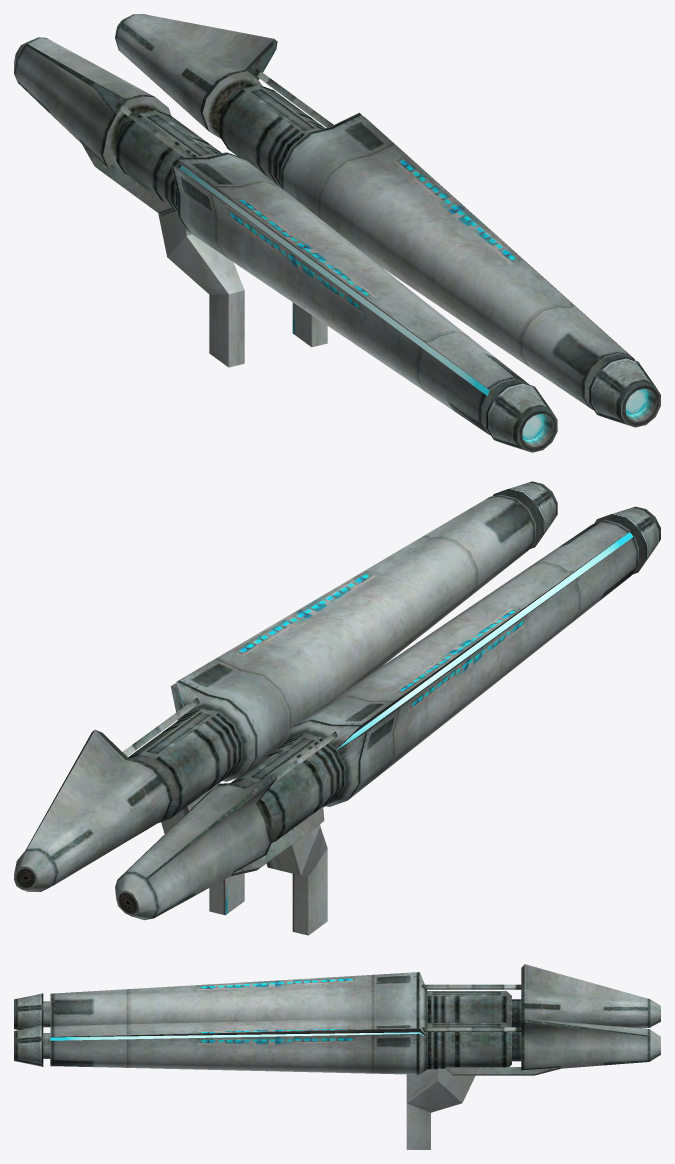
The model's file is ywing_weapon2_s02_l0.fbx.
The picture shows the model from 3 angles, top to bottom: view 1: azimuth 30°, elevation 25°; view 2: azimuth 150°, elevation 25°; view 3: azimuth 270°, elevation 25°; orthographic projection. The views are drawn at different scales.
Parts seen in each view (by area): view 1: mesh_node; view 2: mesh_node; view 3: mesh_node.
Part boxes in pixels (box(x1,y1,x2,y2)): mesh_node: box(14, 14, 660, 452); mesh_node: box(14, 481, 660, 935); mesh_node: box(14, 964, 660, 1149).
Size of the model in its own units: 0.5814 by 0.6482 by 2.66.
1 material, 1 textured.
